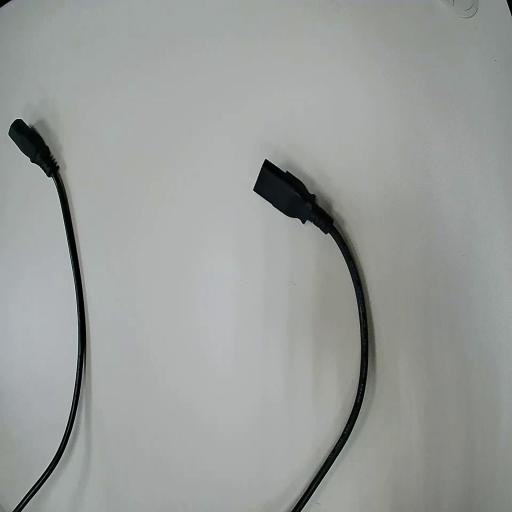wire: (255, 161, 369, 511), (10, 120, 85, 511)
